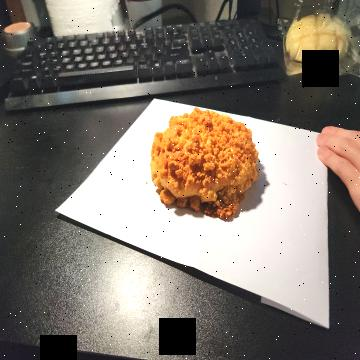soboru_bread: (150, 106, 260, 223)
